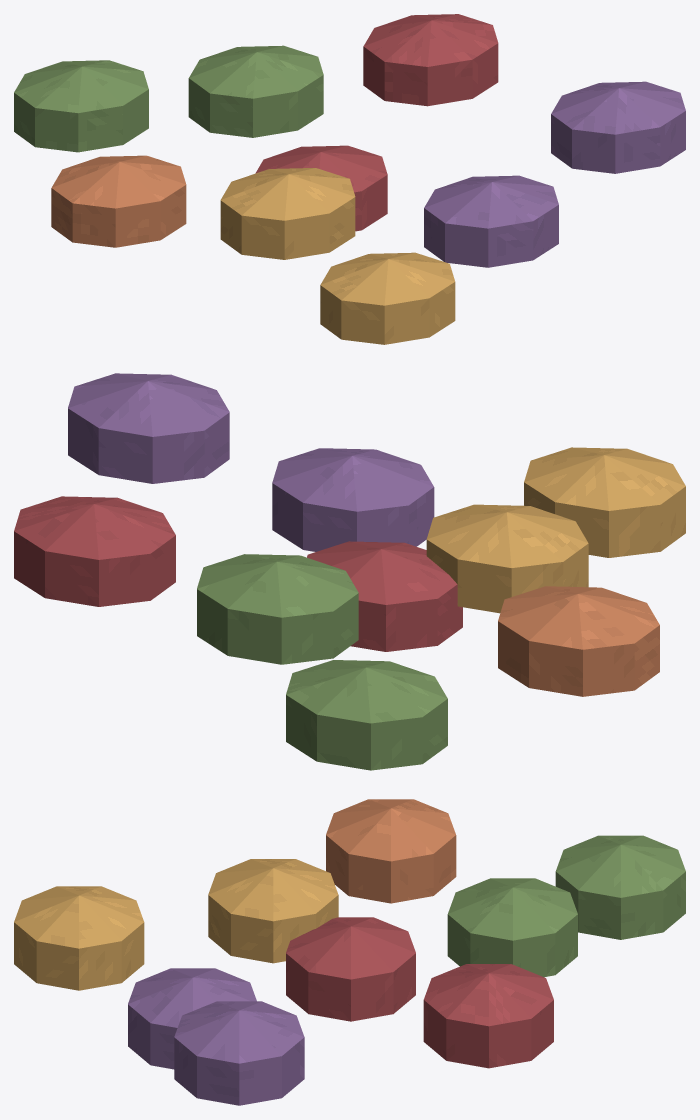
File: candy2.glb
3 views of the same model, one above another, from view 1: azimuth 30°, elevation 25°; view 2: azimuth 150°, elevation 25°; view 3: azimuth 270°, elevation 25° (orthographic). The views are drawn at different scales.
Parts seen in each view (by area): view 1: block_bite-sized sweet (×9); view 2: block_bite-sized sweet (×9); view 3: block_bite-sized sweet (×9).
Boxes of the visible parts, bbox=[...] form: block_bite-sized sweet (×9): bbox=[14, 14, 685, 344]; block_bite-sized sweet (×9): bbox=[14, 373, 685, 770]; block_bite-sized sweet (×9): bbox=[14, 799, 685, 1105].
Size of the model in its own units: 0.0593 by 0.0125 by 0.0587.
1 material, 1 textured.
